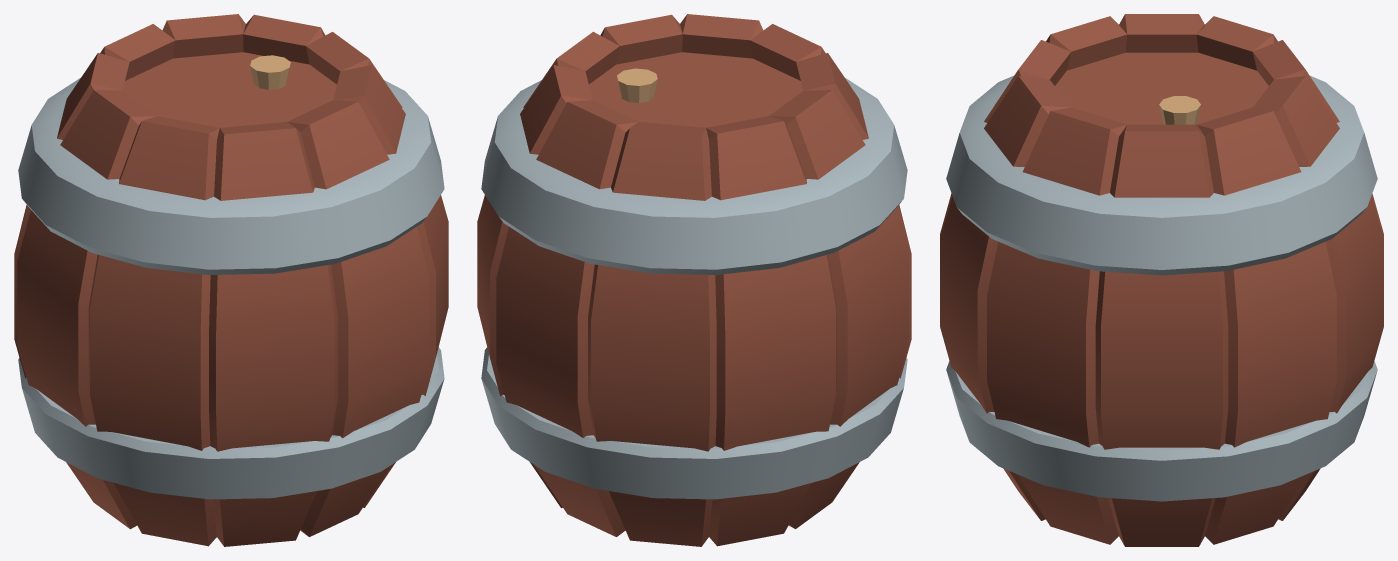
The model's file is barrel.gltf.
3 renders of one model, left to right at view 1: azimuth 30°, elevation 25°; view 2: azimuth 150°, elevation 25°; view 3: azimuth 270°, elevation 25°, orthographic.
Parts seen in each view (by area): view 1: Cylinder019, Cylinder019_2, Cylinder019_1; view 2: Cylinder019, Cylinder019_2, Cylinder019_1; view 3: Cylinder019, Cylinder019_2, Cylinder019_1.
Part boxes in pixels (box(x1,y1,x2,y2)): Cylinder019: box(14, 14, 448, 546); Cylinder019_2: box(18, 78, 444, 499); Cylinder019_1: box(250, 55, 290, 89); Cylinder019: box(477, 14, 911, 546); Cylinder019_2: box(481, 78, 907, 499); Cylinder019_1: box(617, 68, 657, 102); Cylinder019: box(940, 14, 1383, 546); Cylinder019_2: box(946, 75, 1377, 501); Cylinder019_1: box(1159, 96, 1200, 124).
Bounding box in the file's own units: 0.9415 × 1 × 0.9682.
